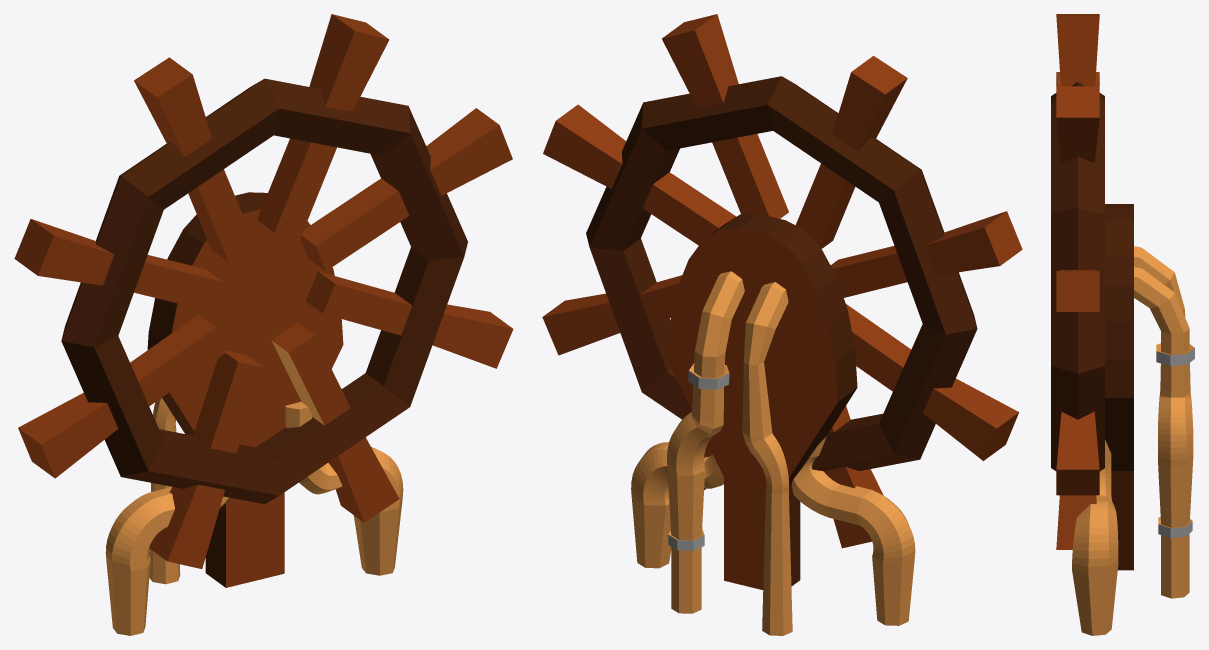
The model's file is Wheel.fbx.
3 views of the same model, side by side, from view 1: azimuth 30°, elevation 25°; view 2: azimuth 150°, elevation 25°; view 3: azimuth 270°, elevation 25° (orthographic). The views are drawn at different scales.
Visible parts, largest first — view 1: Pipes1; view 2: Pipes1; view 3: Pipes1.
Part boxes in pixels (x1,y1,x2,y2): Pipes1: [14, 14, 513, 635]; Pipes1: [542, 14, 1022, 635]; Pipes1: [1051, 14, 1194, 635].
Bounding box in the file's own units: 1.41 × 0.3988 × 1.6.
